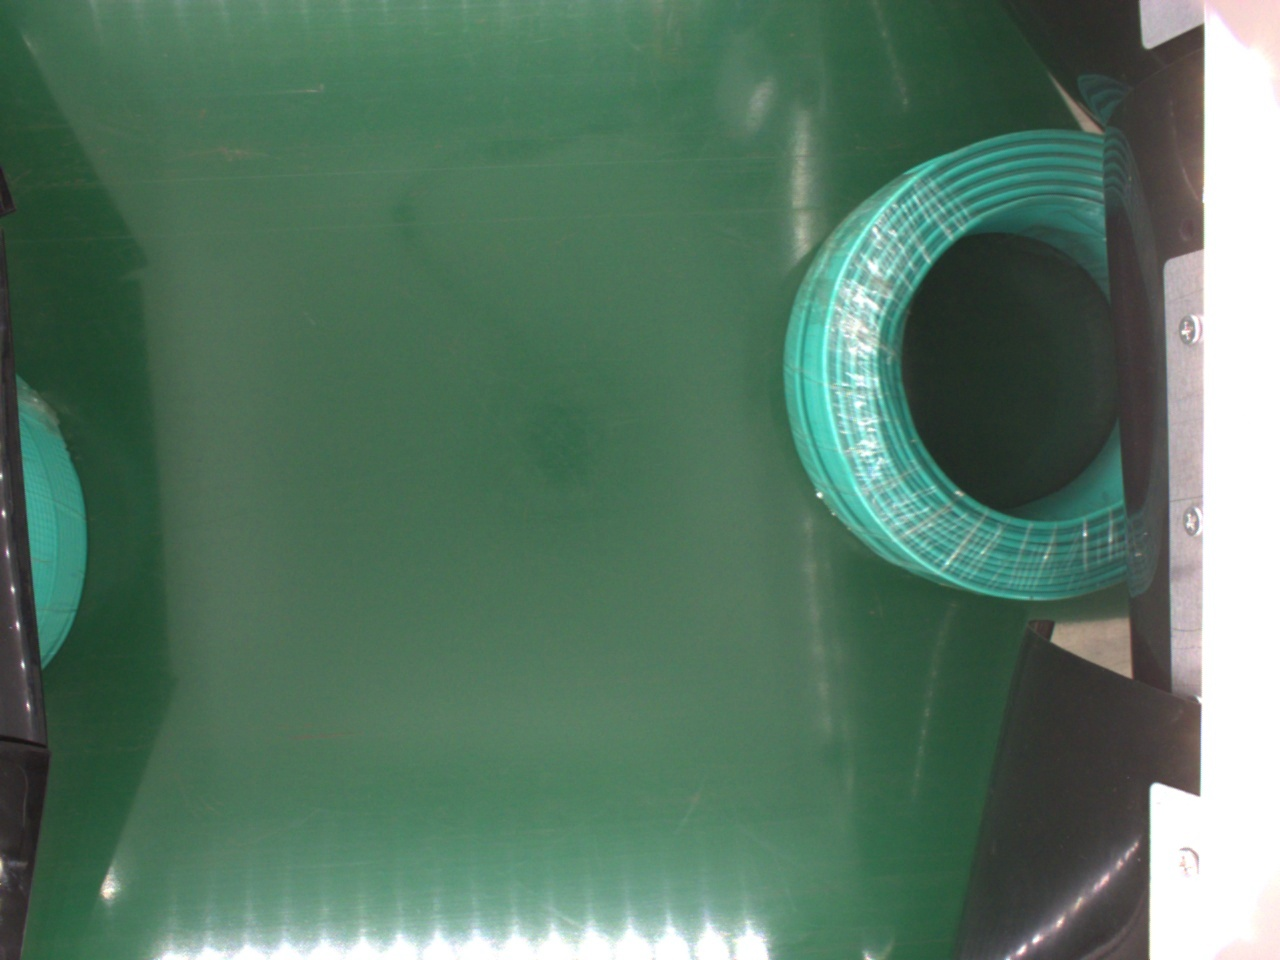green: (781, 126, 1147, 600)
